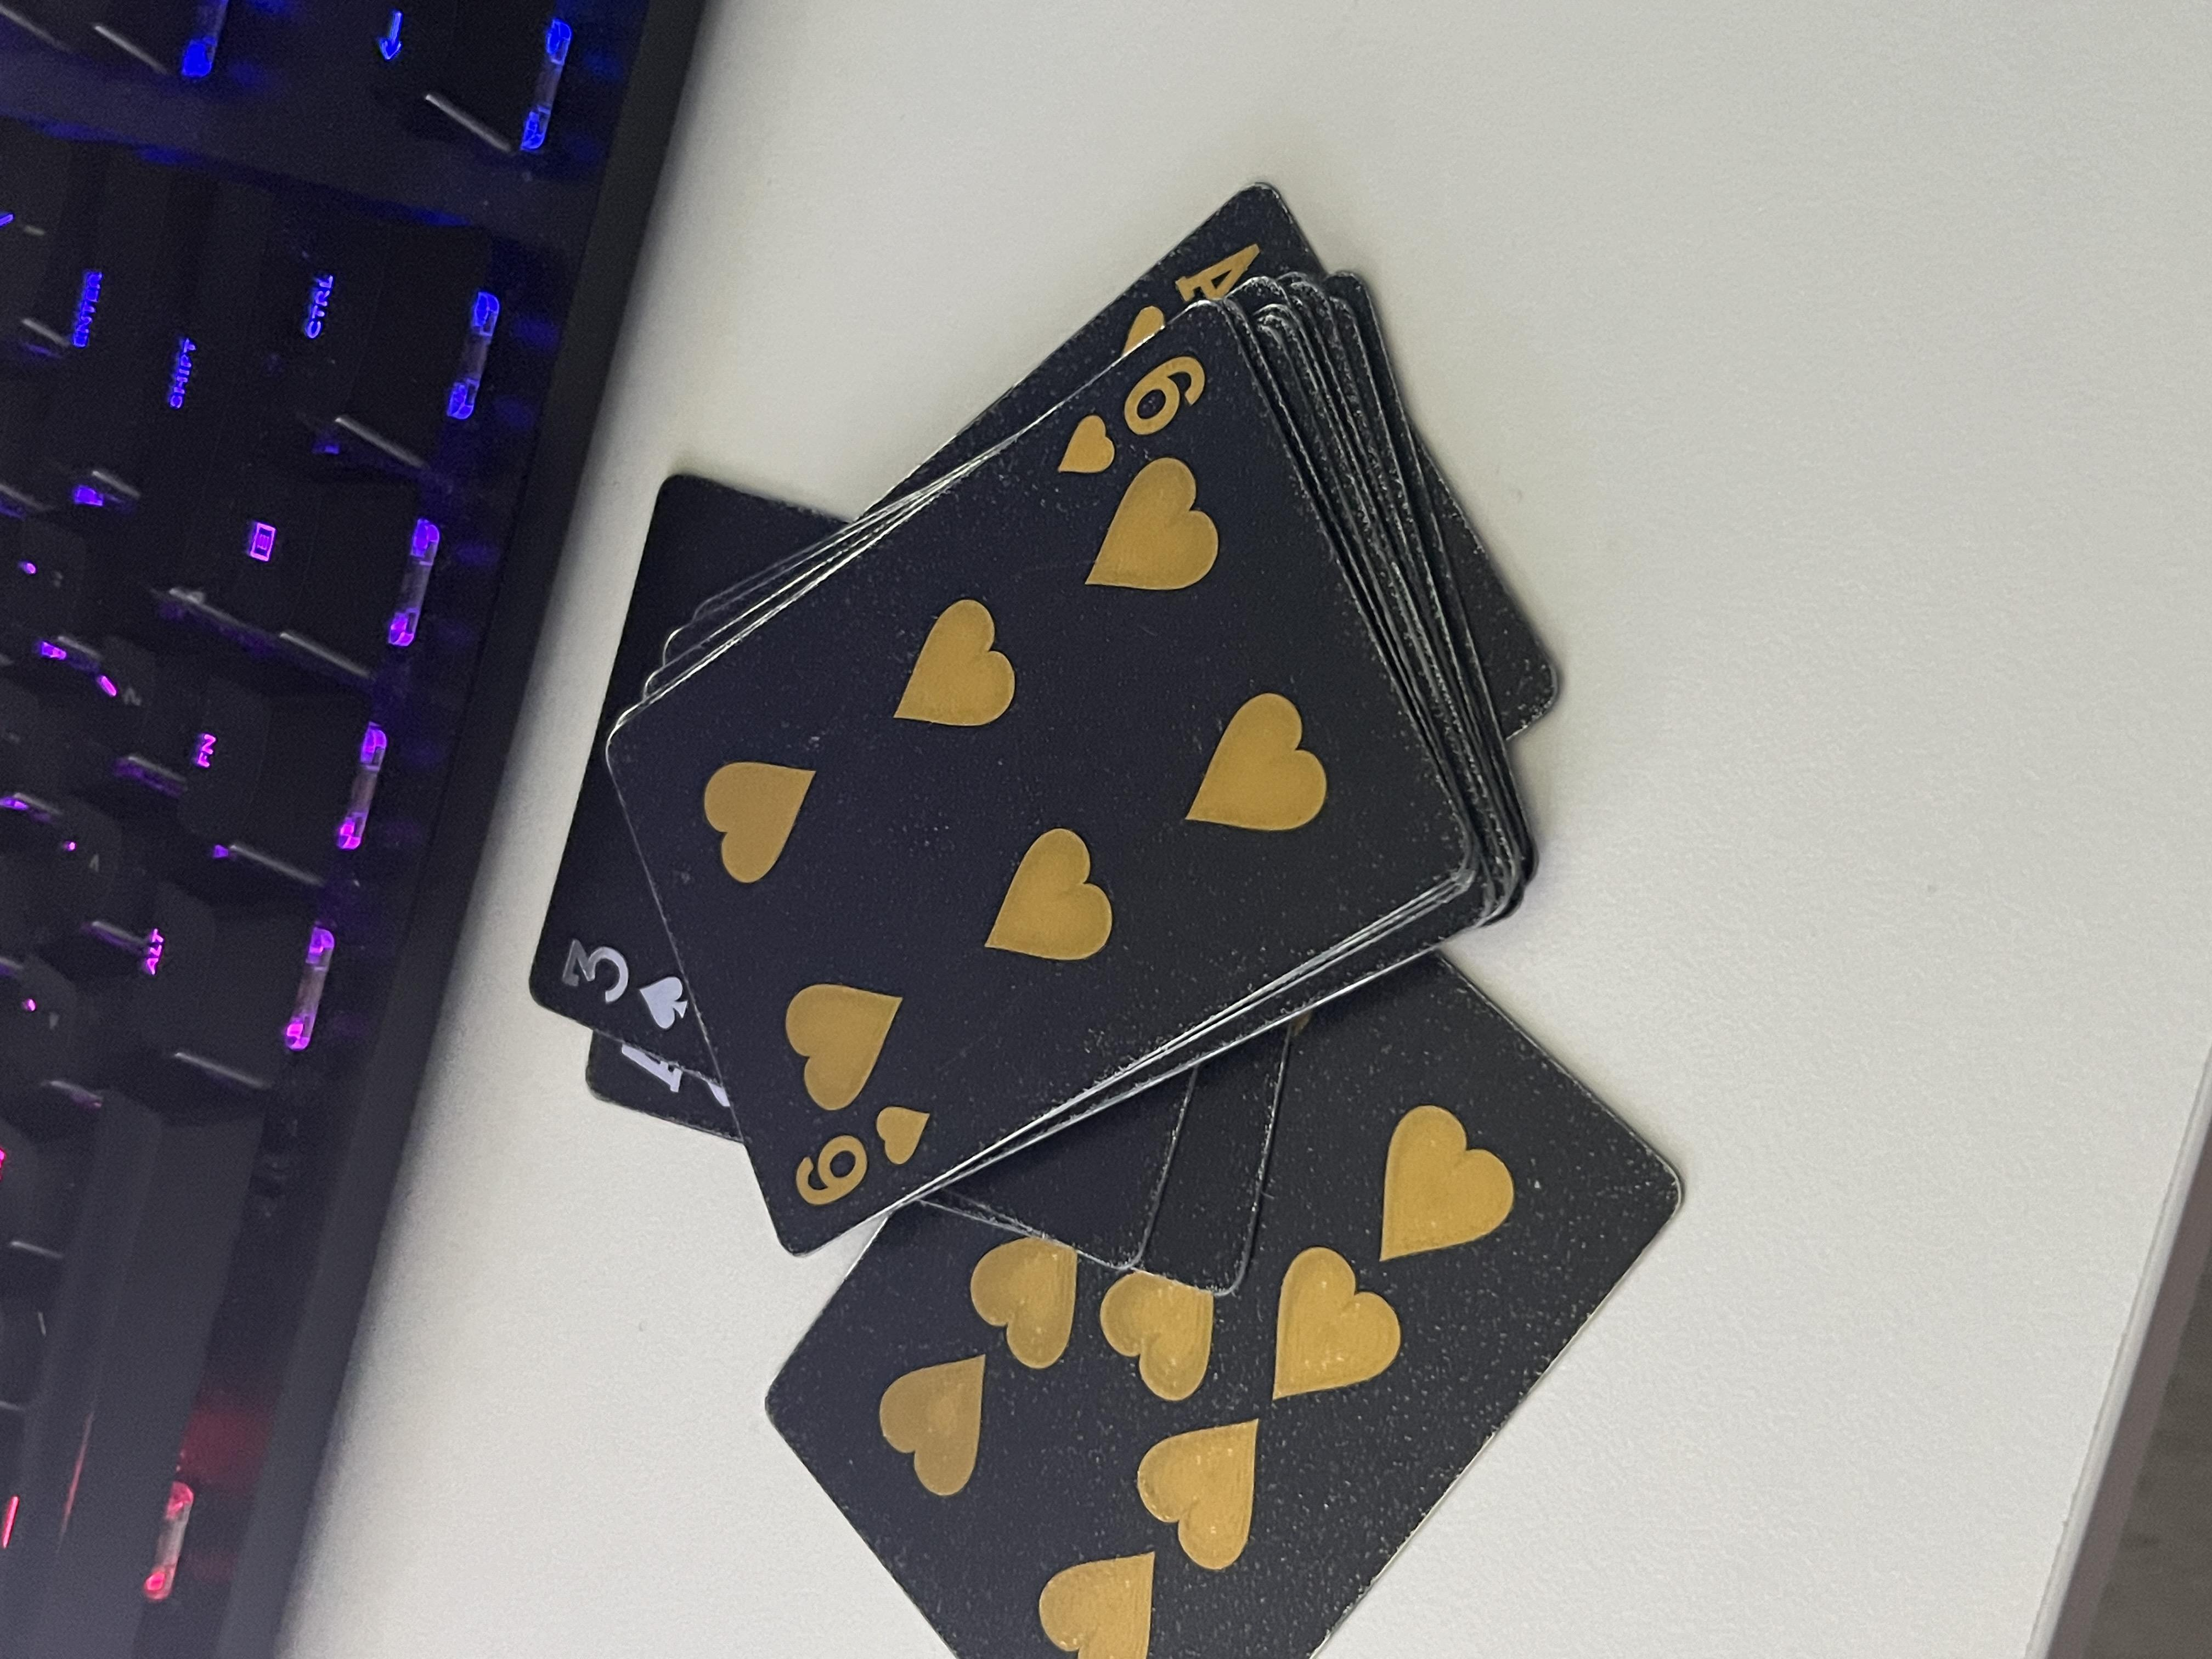3S: (834, 403, 977, 526)
6H: (1547, 789, 1766, 918), (575, 582, 758, 716)
